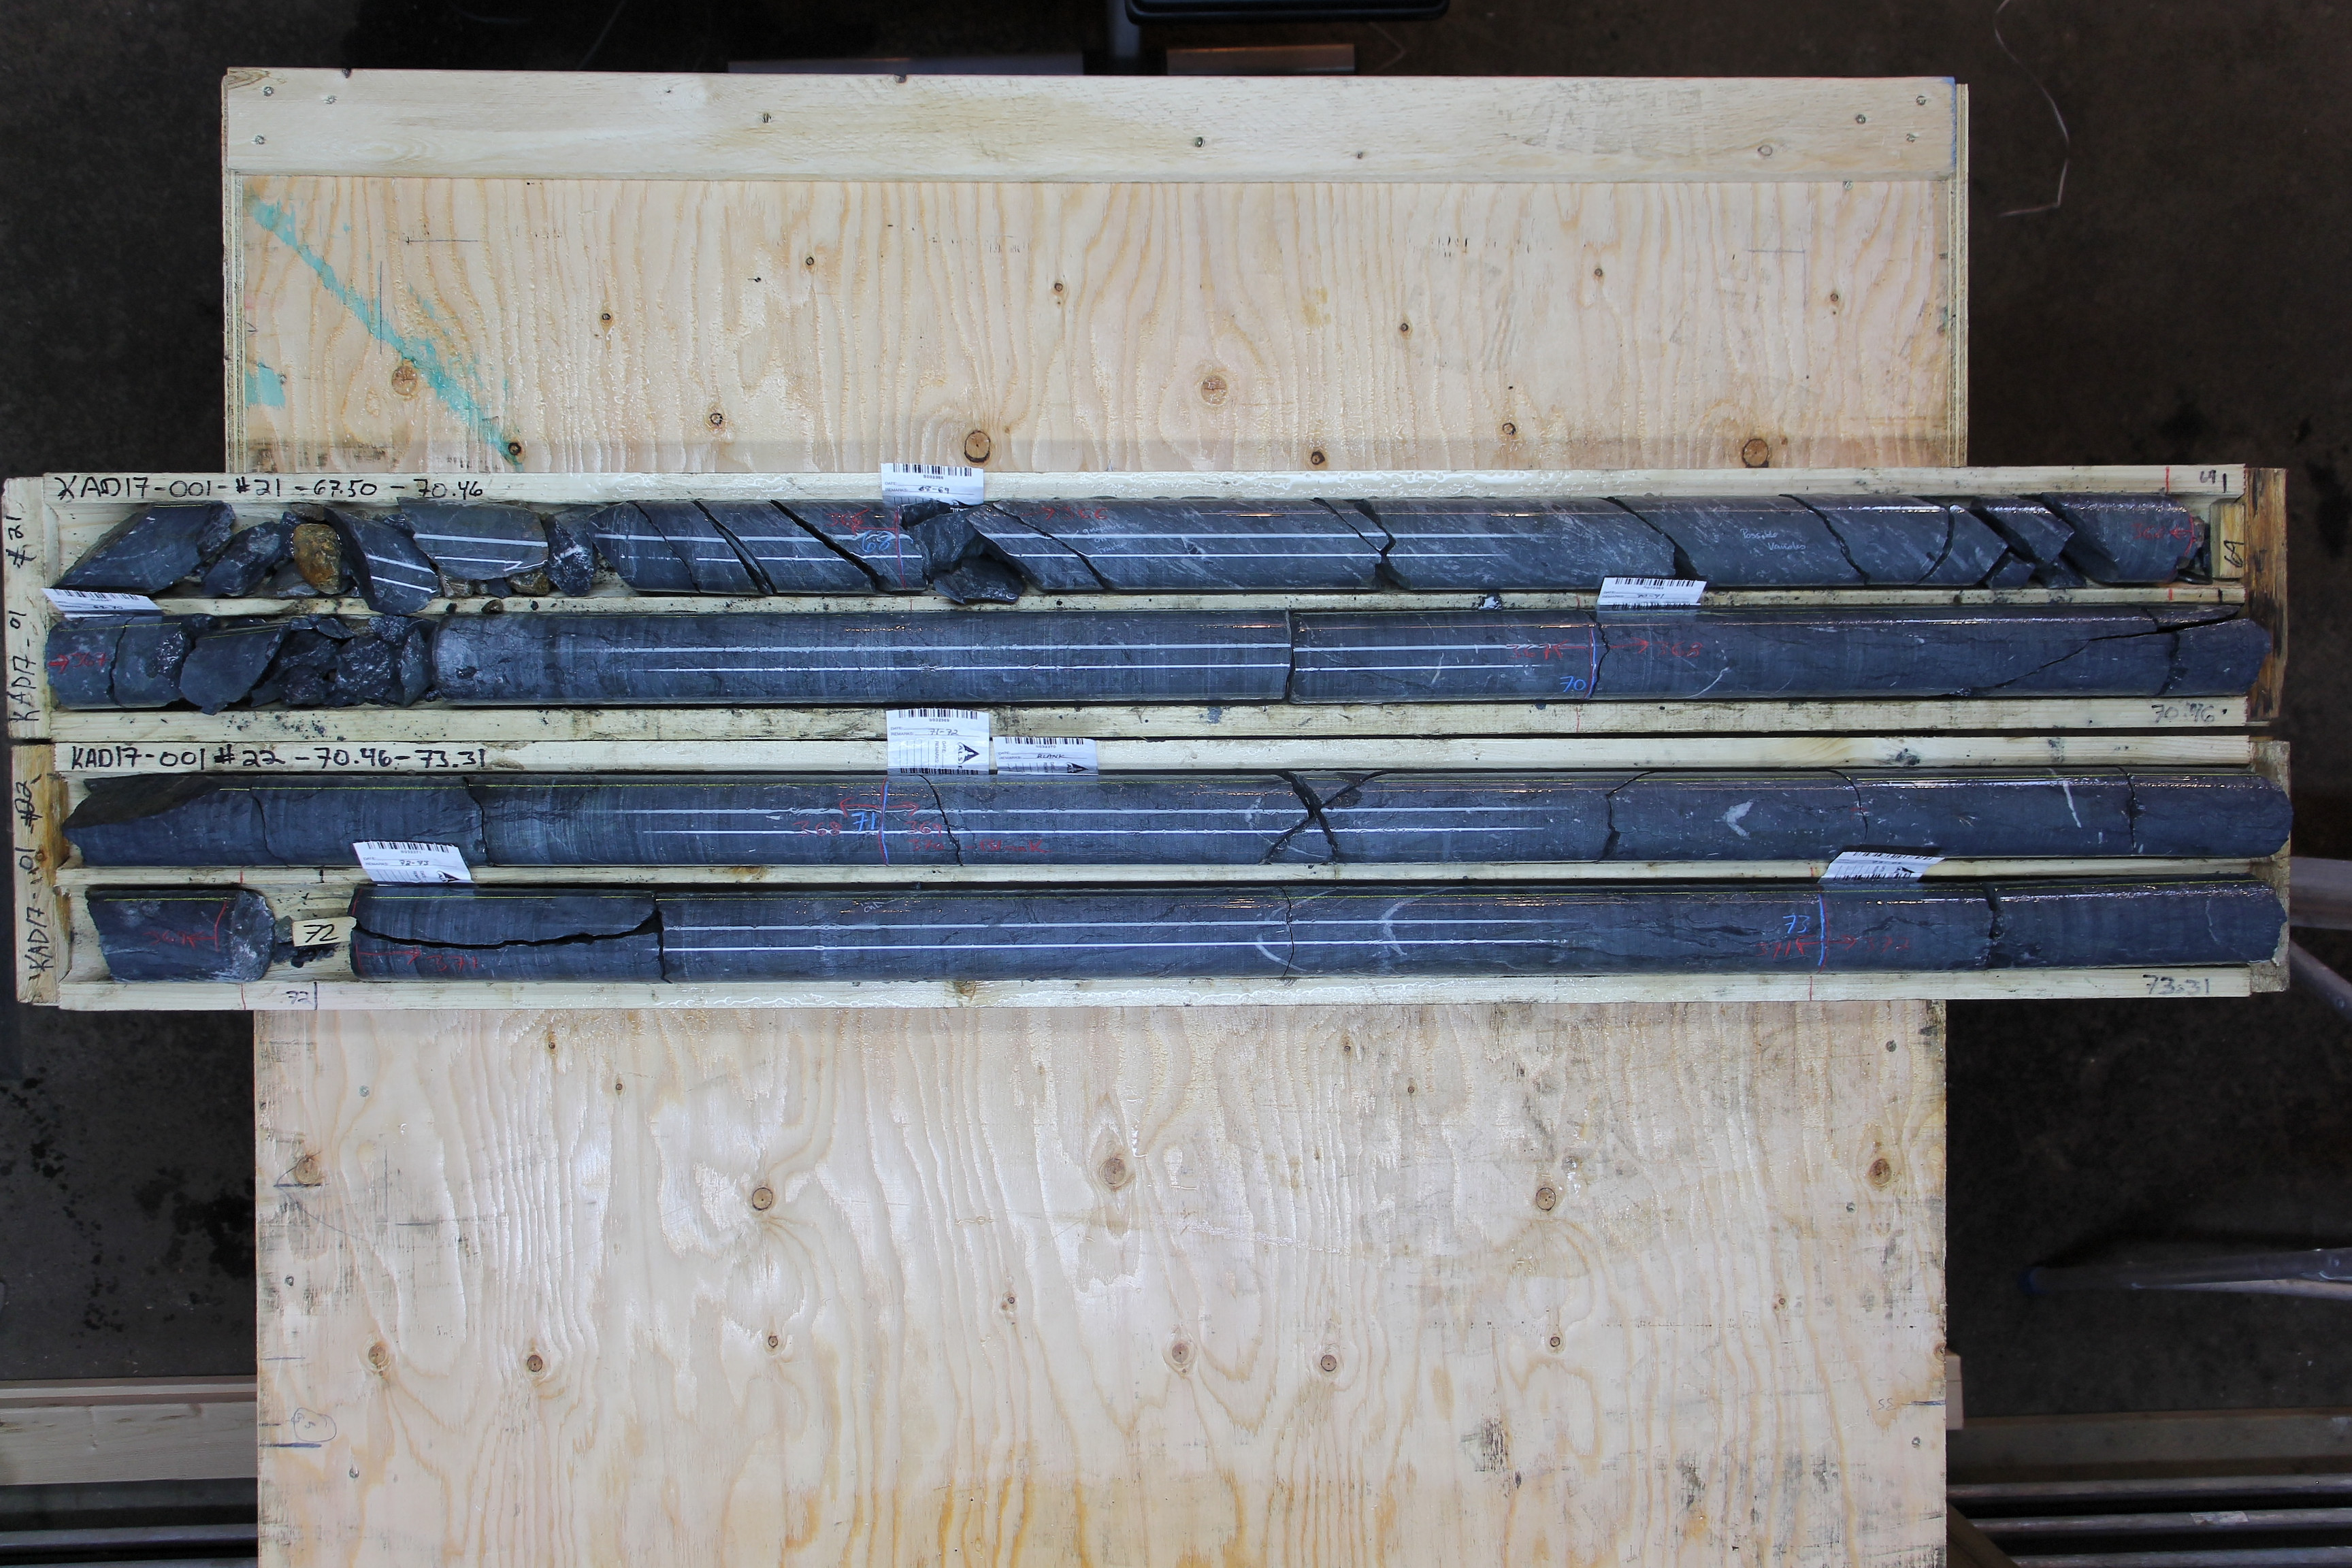rock-KAD17_001-67.5-68: (54, 507, 897, 593)
rock-KAD17_001-68-69: (900, 497, 2208, 591)
rock-KAD17_001-69-70: (50, 609, 1590, 704)
rock-KAD17_001-70-70x: (1592, 611, 2248, 695)
rock-KAD17_001-70x-71: (58, 772, 880, 866)
rock-KAD17_001-71-71x: (881, 768, 2274, 862)
rock-KAD17_001-71x-72: (84, 884, 242, 979)
rock-KAD17_001-72-73: (357, 887, 1822, 975)
rock-KAD17_001-73-73.31: (1824, 884, 2249, 965)
